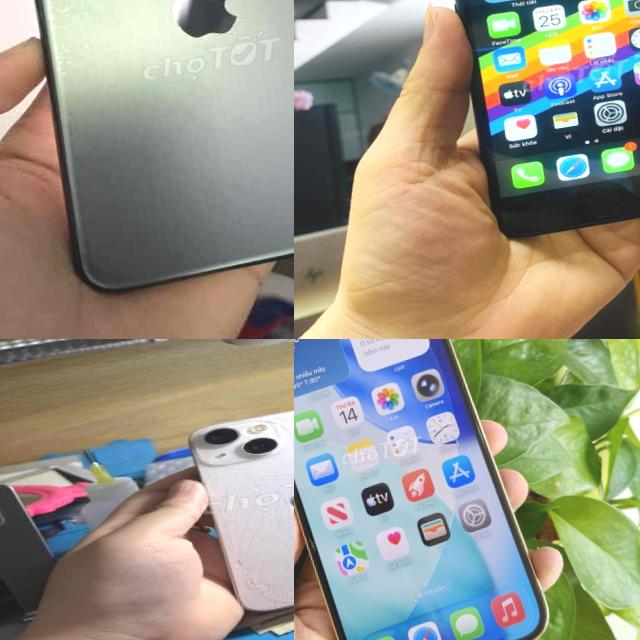gen_11: (35, 0, 294, 290)
gen_12_13: (294, 339, 559, 640)
gen_14: (187, 388, 294, 617)
gen_7_8: (424, 0, 640, 253)
physical_damage: (201, 462, 273, 536), (224, 534, 291, 612), (264, 453, 294, 529), (235, 409, 294, 443), (278, 525, 294, 602)
